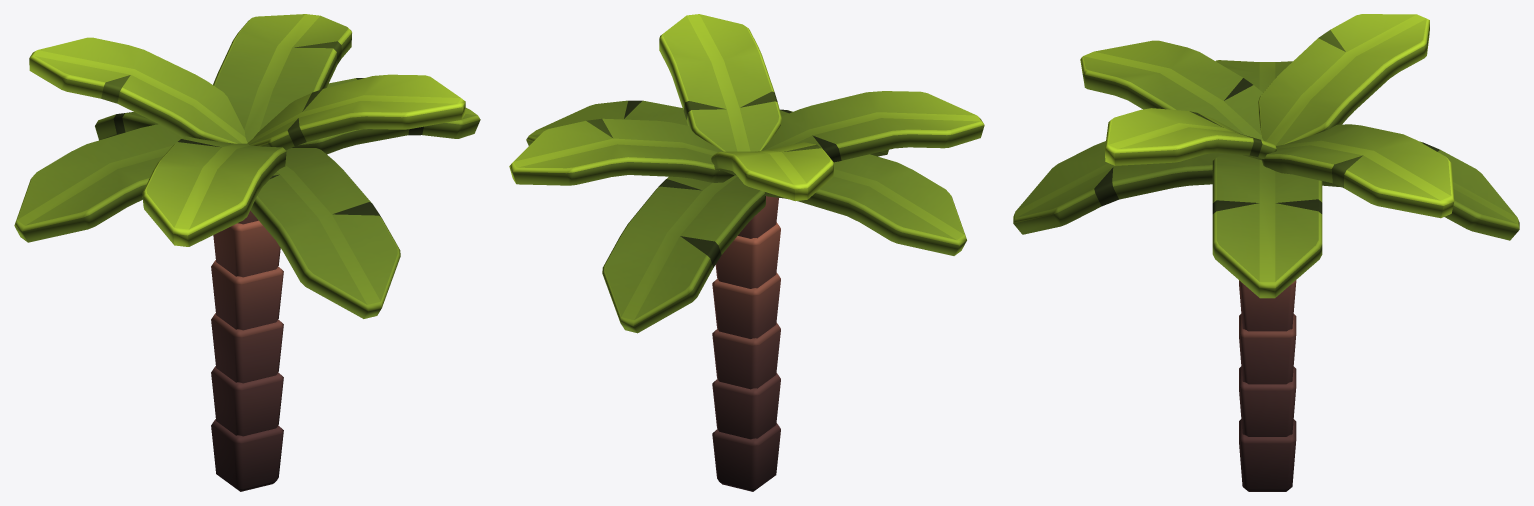
Rendered from palm_tree_1.fbx.
3 views of the same model, side by side, from view 1: azimuth 30°, elevation 25°; view 2: azimuth 150°, elevation 25°; view 3: azimuth 270°, elevation 25° (orthographic). The views are drawn at different scales.
Visible parts, largest first — view 1: palm_tree_1; view 2: palm_tree_1; view 3: palm_tree_1.
Boxes of the visible parts, x1,y1,x2,y2 form: palm_tree_1: (14, 14, 480, 491); palm_tree_1: (509, 14, 984, 491); palm_tree_1: (1013, 14, 1519, 491).
Bounding box in the file's own units: 679 × 575 × 653.
